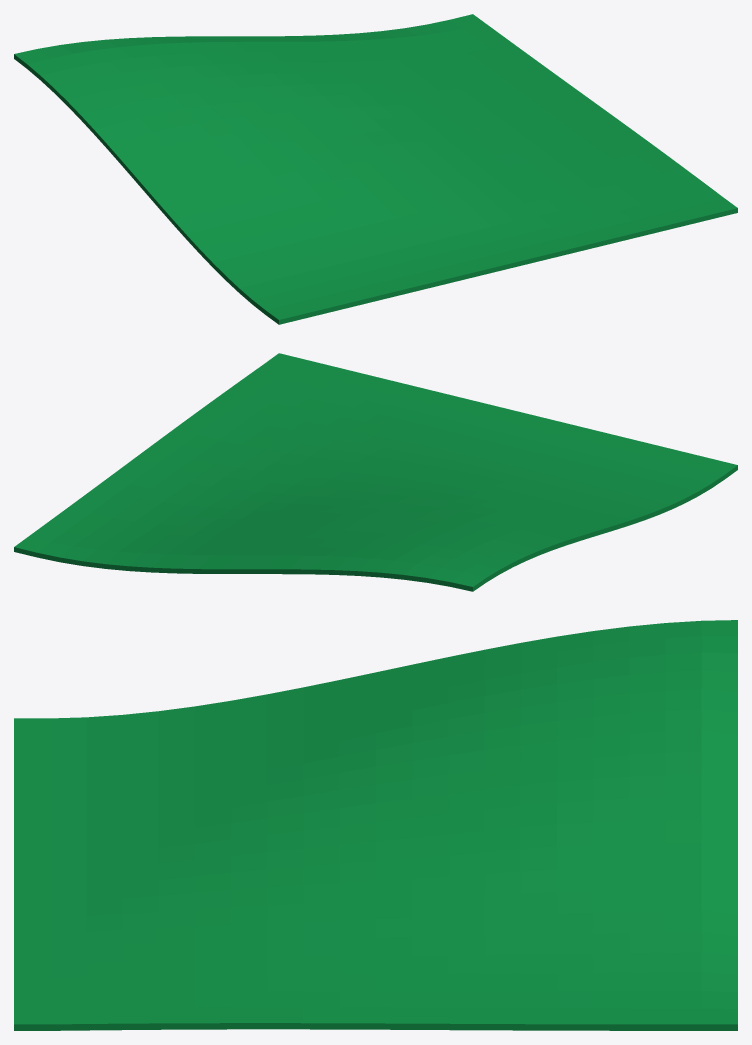
File: Hill_Curved_Edge.fbx
3 renders of one model, top to bottom at view 1: azimuth 30°, elevation 25°; view 2: azimuth 150°, elevation 25°; view 3: azimuth 270°, elevation 25°, orthographic. The views are drawn at different scales.
Parts seen in each view (by area): view 1: Straight; view 2: Straight; view 3: Straight.
Part boxes in pixels (x1,y1,x2,y2): Straight: (14, 14, 737, 324); Straight: (14, 353, 737, 591); Straight: (14, 620, 737, 1030).
Bounding box in the file's own units: 20 × 3.2 × 20.
